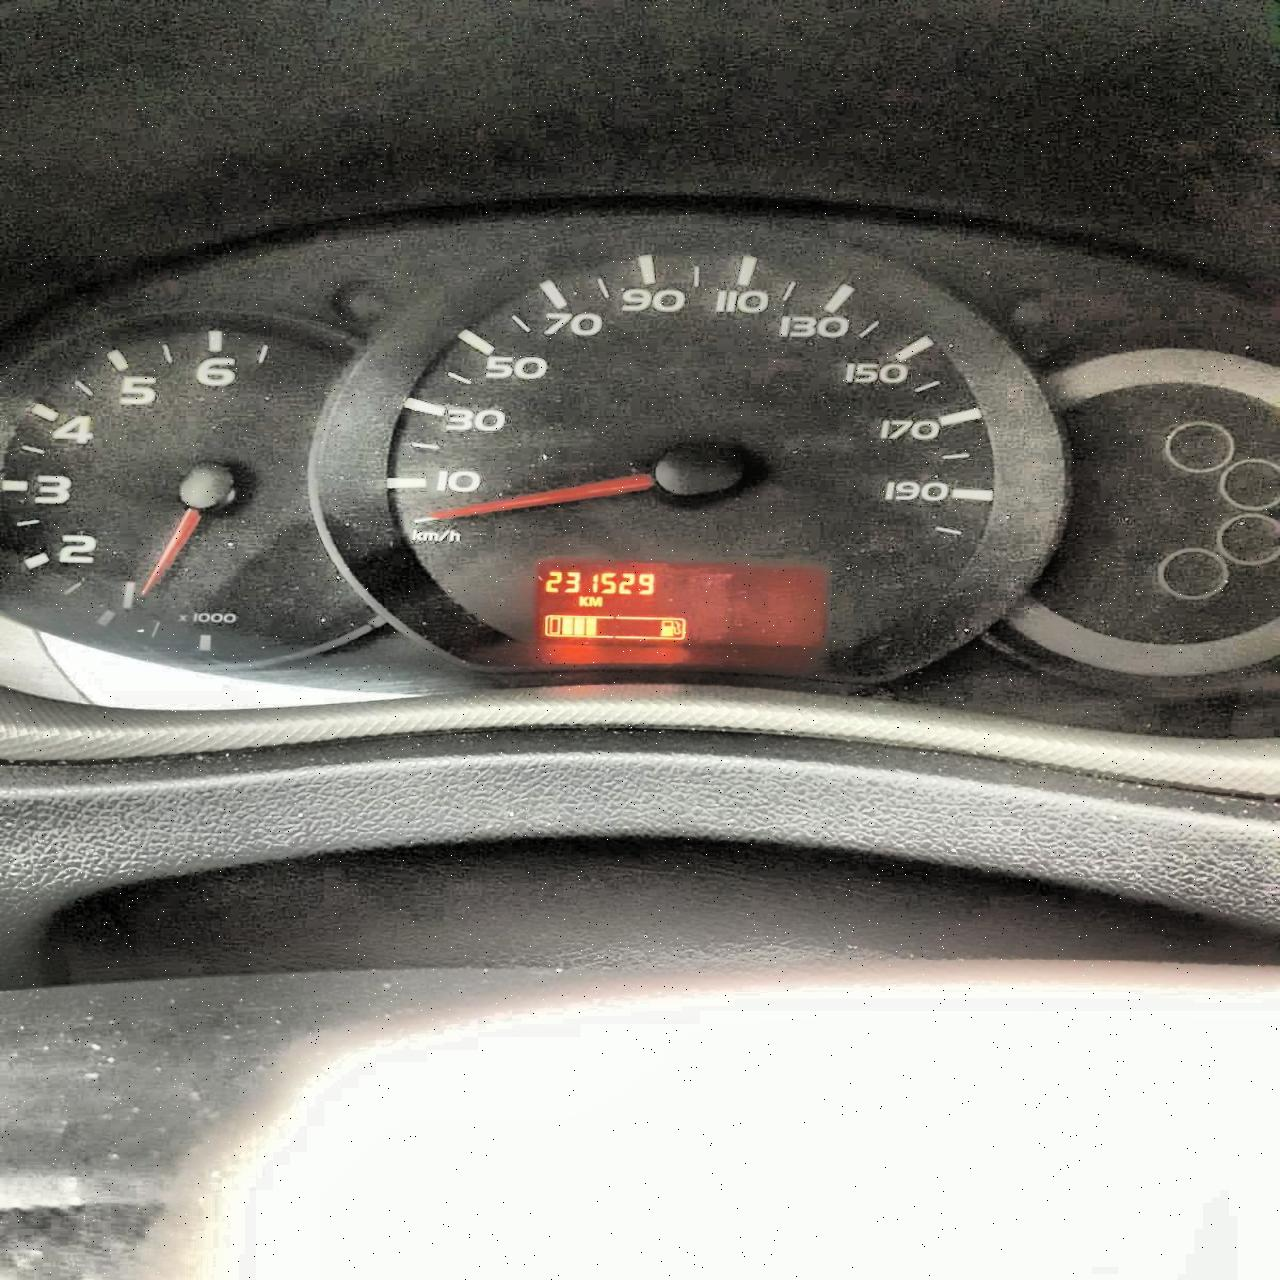1: (587, 571, 598, 594)
2: (543, 570, 561, 592), (617, 571, 634, 594)
3: (563, 570, 580, 592)
5: (599, 571, 617, 594)
9: (636, 572, 655, 594)
X: (587, 594, 601, 606), (577, 594, 587, 606)
odometer: (524, 556, 836, 656)
